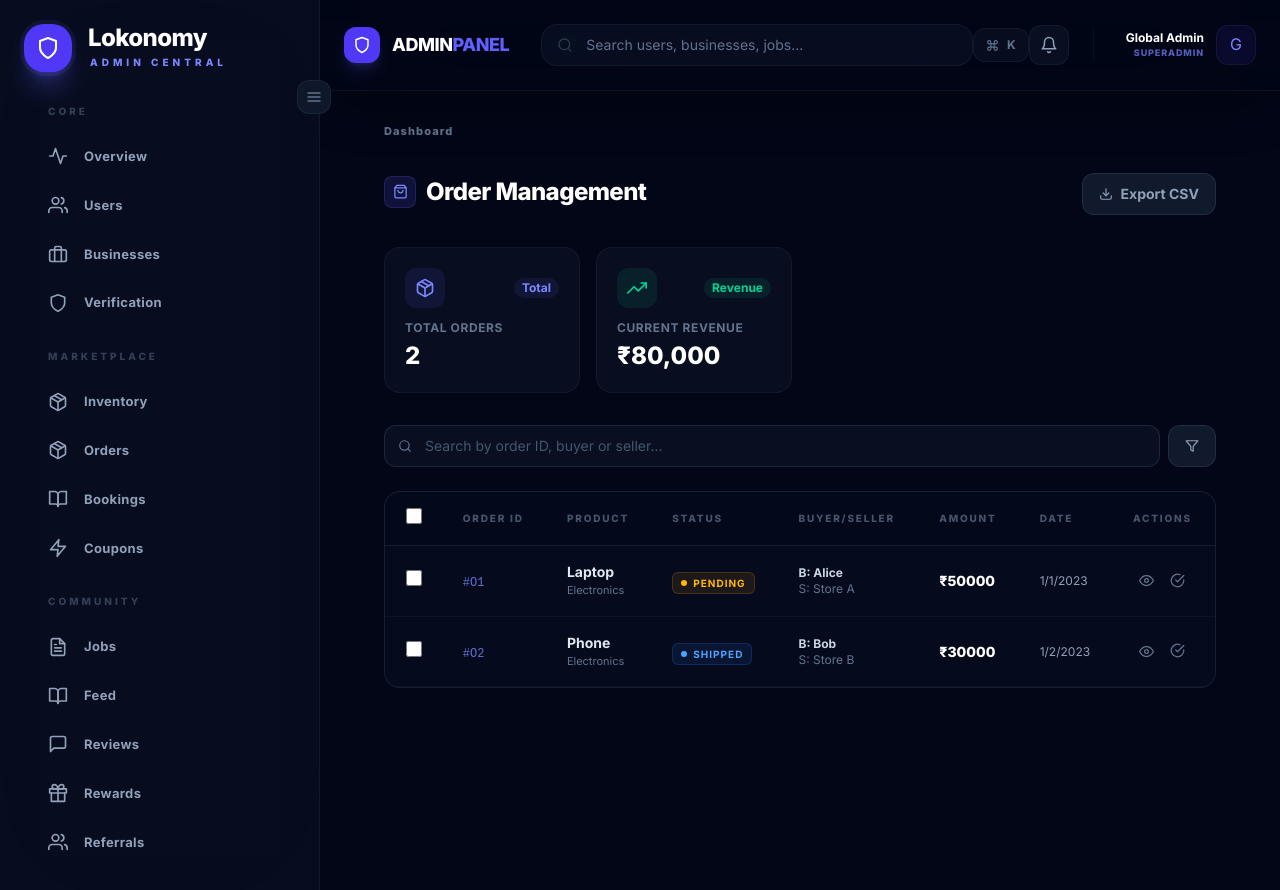
AdminOrders Page › closes bulk update panel when close button is clicked
Expected: the text "Laptop" is shown, [567,563,614,580]
Click the checkbox next to "O1" at (414, 578), box [406,570,422,586]
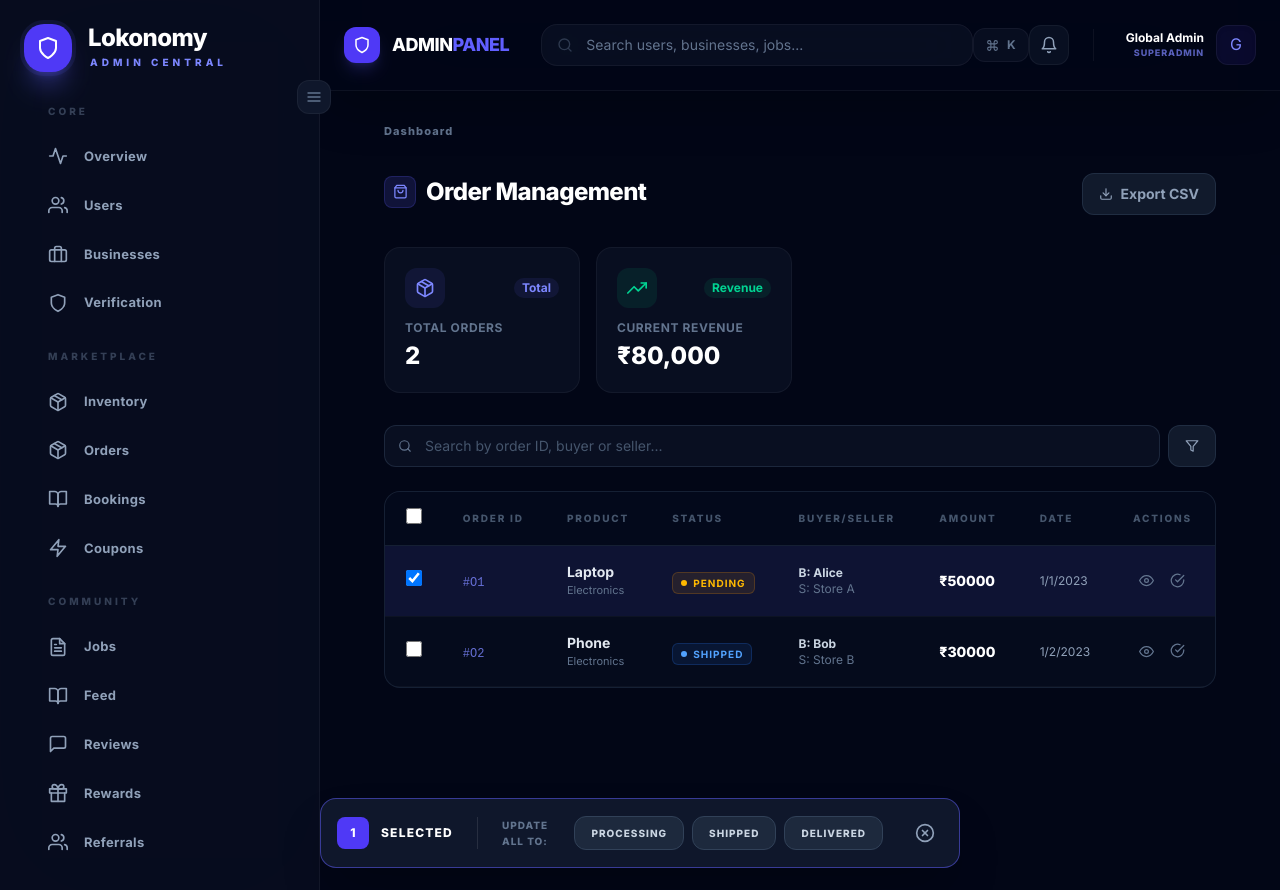
Expected: the text "Selected" is shown, [381,825,453,841]
Click the button without text in the row of "Update all to:" at (925, 833), box [907,815,943,851]
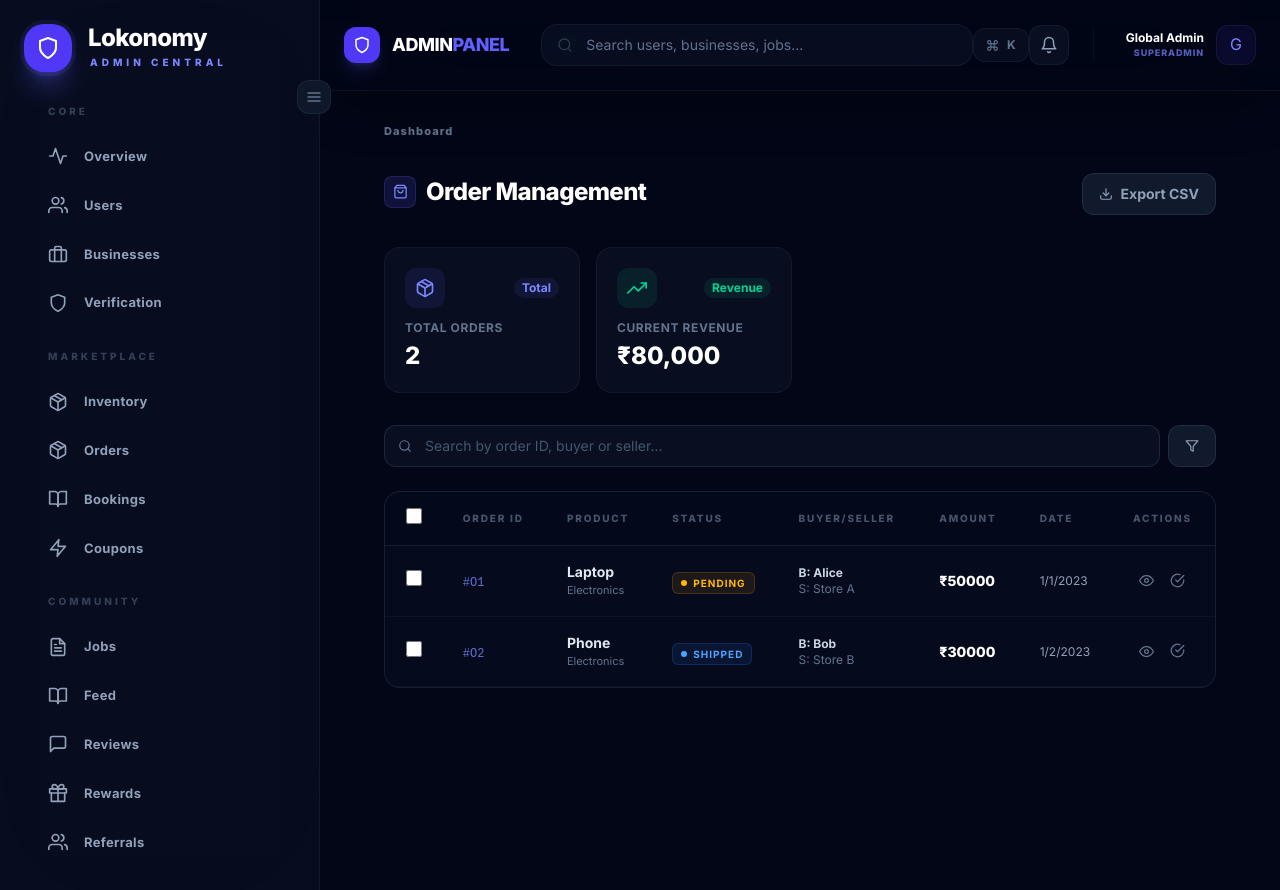
Expected: the text "Selected" is gone
